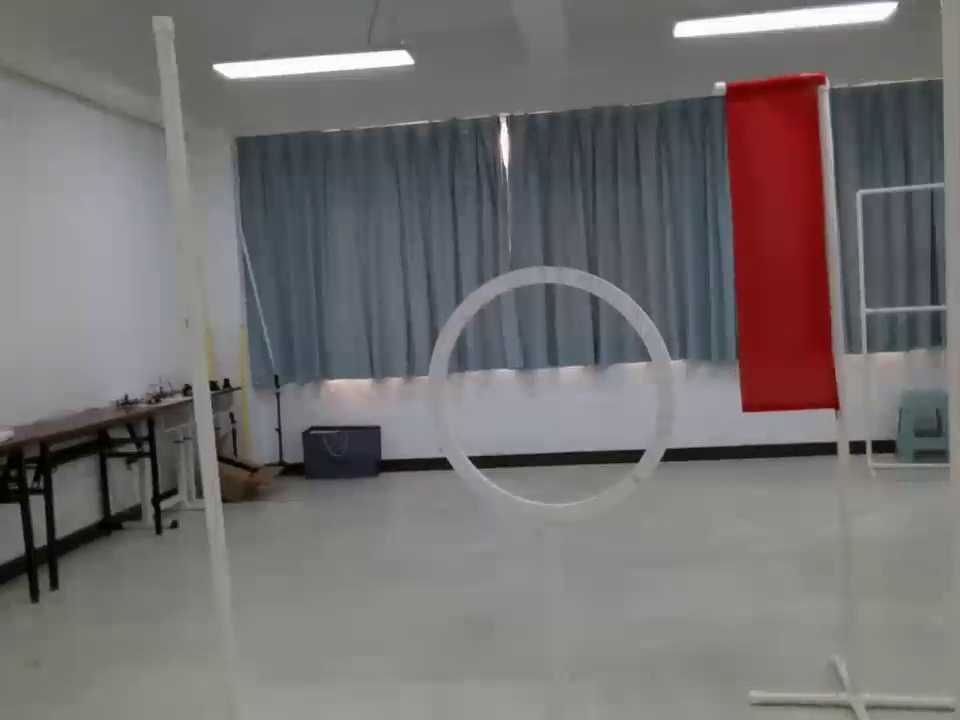qi: (709, 71, 868, 430)
quan: (417, 260, 681, 536)
